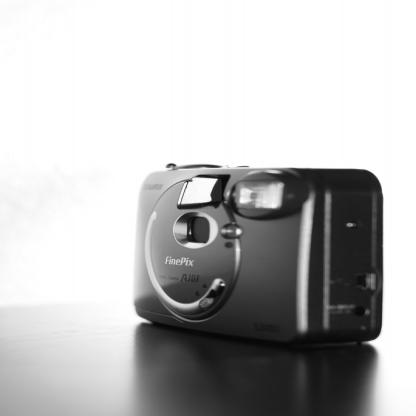Camera: (132, 164, 384, 352)
